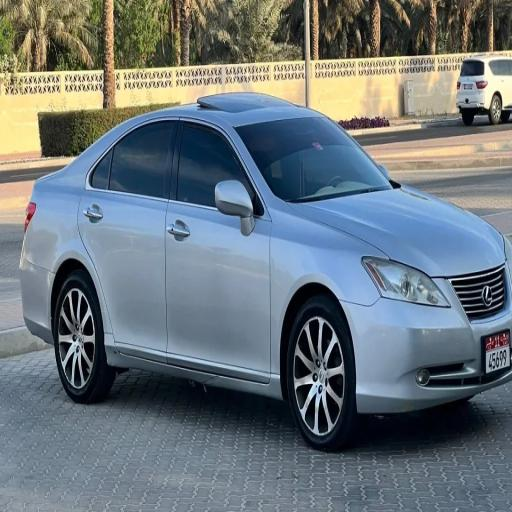license-plates: (484, 331, 511, 374)
